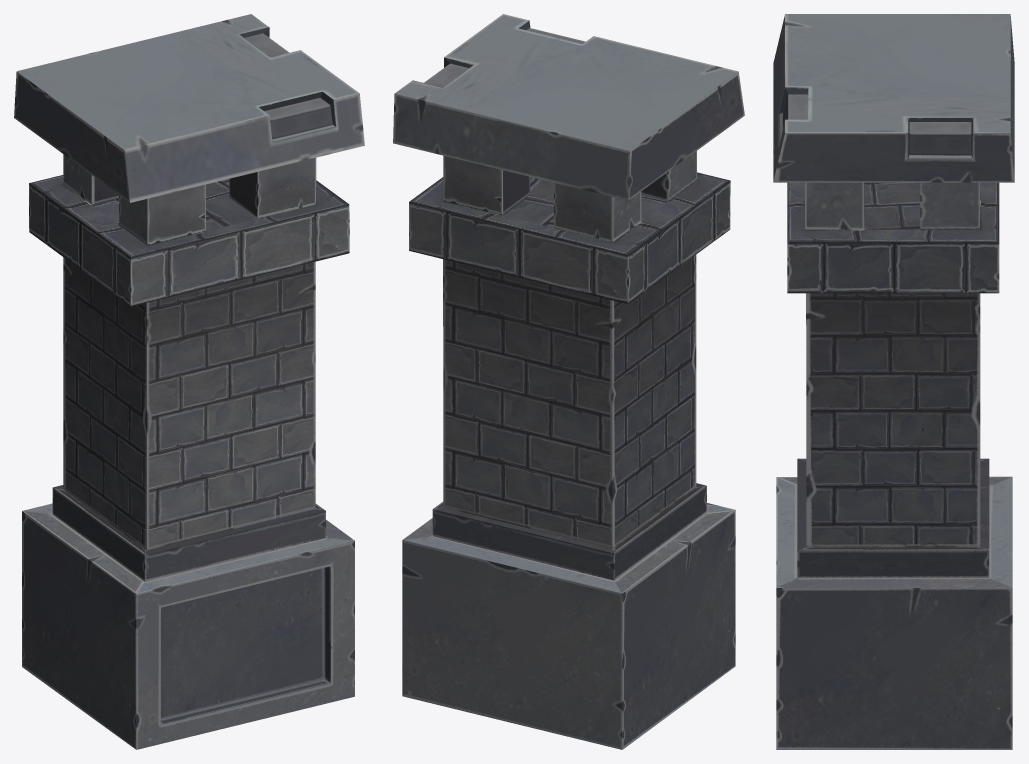
File: Column_broken.FBX
The picture shows the model from 3 angles, left to right: view 1: azimuth 30°, elevation 25°; view 2: azimuth 150°, elevation 25°; view 3: azimuth 270°, elevation 25°; orthographic projection. The views are drawn at different scales.
Parts seen in each view (by area): view 1: Object116; view 2: Object116; view 3: Object116.
Boxes of the visible parts, x1,y1,x2,y2 form: Object116: (14,14,364,749); Object116: (393,14,744,749); Object116: (773,14,1014,749).
Bounding box in the file's own units: 157 × 382 × 135.
1 material, 1 textured.
